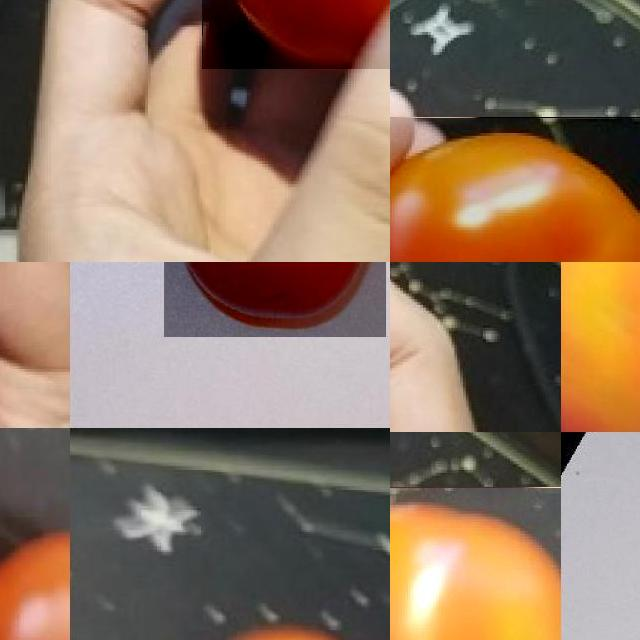Fresh Tomato: (390, 117, 640, 262), (390, 487, 561, 640), (164, 262, 386, 337), (0, 536, 70, 640)
